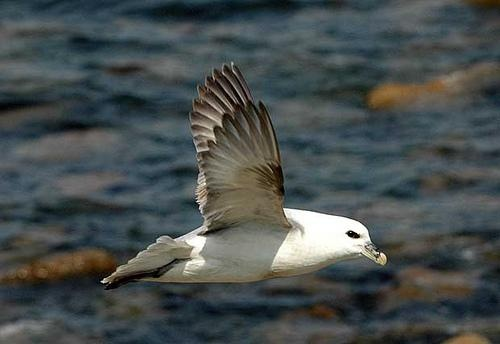bird: (102, 64, 387, 290)
